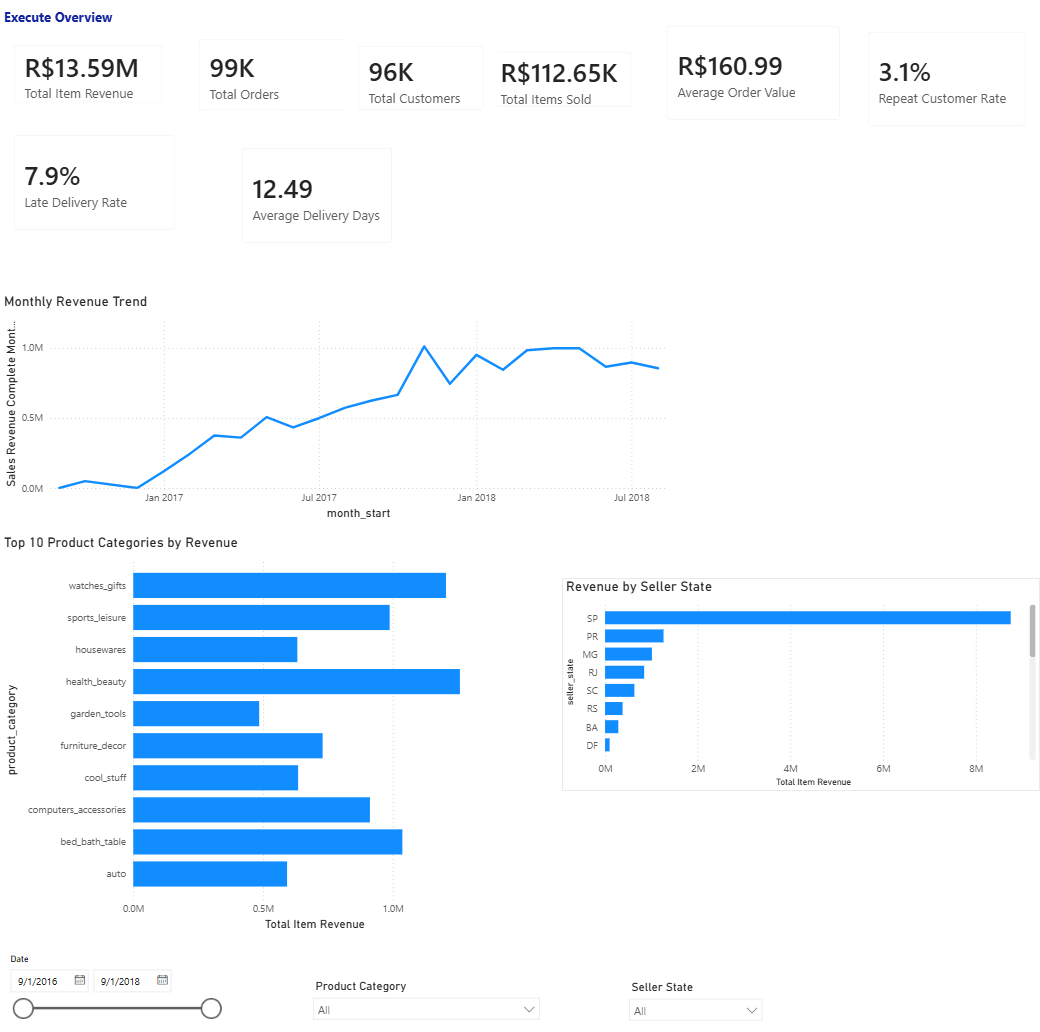

The dashboard page shown, as its layout file describes it:
{"tool":"powerbi","page":{"name":"Execute Overview","canvas":[1280,1280],"ordinal":0},"visuals":[{"type":"cardVisual","fields":{"Data":["mart_sales_performance.Total Item Revenue"]},"box":[0,44.3,217.8,105.8],"z":0},{"type":"cardVisual","fields":{"Data":["mart_sales_performance.Total Item Sold"]},"box":[586.3,53.1,208.5,102.3],"z":1000},{"type":"lineChart","title":"Monthly Revenue Trend","fields":{"Category":["mart_sales_performance.month_start.Variation.Date Hierarchy.Month"],"Y":["mart_sales_performance.Sales Revenue Complete Months"]},"box":[0,366.8,836.9,283.1],"z":2000},{"type":"clusteredBarChart","title":"Top 10 Product Categories by Revenue","fields":{"Category":["mart_sales_performance.product_category"],"Y":["mart_sales_performance.Total Item Revenue"]},"box":[0,663.4,630.2,492.3],"z":3000},{"type":"clusteredBarChart","title":"Revenue by Seller State","fields":{"Category":["mart_sales_performance.seller_state"],"Y":["mart_sales_performance.Total Item Revenue"]},"box":[691.7,717.5,588.3,262.2],"z":4000},{"type":"slicer","fields":{"Values":["DimDate.Date"]},"box":[0,1175.7,280.9,104.3],"z":5000},{"type":"slicer","fields":{"Values":["DimSellerState.Seller State"]},"box":[764.4,1207.7,183.7,69.9],"z":6000},{"type":"slicer","fields":{"Values":["DimProductCategory.Product Category"]},"box":[375.7,1206.5,298.7,73.5],"z":7000},{"type":"textbox","box":[0,10.7,165.9,34.4],"z":8000},{"type":"cardVisual","fields":{"Data":["mart_customer_behavior.Total Orders"]},"box":[227.6,36.7,218.1,122.1],"z":9000},{"type":"cardVisual","fields":{"Data":["mart_customer_behavior.Total Customers"]},"box":[423.1,45,189.6,113.8],"z":10000},{"type":"cardVisual","title":"Average Order Value","fields":{"Data":["mart_customer_behavior.Average Order Value"]},"box":[803.6,21.5,247.7,150.4],"z":11000},{"type":"cardVisual","fields":{"Data":["mart_customer_behavior.Repeat Customer Rate"]},"box":[1051.3,27.8,228.7,150.4],"z":12000},{"type":"cardVisual","fields":{"Data":["mart_customer_behavior.Average Delivery Days"]},"box":[280.6,171.1,219.1,151.4],"z":13000},{"type":"cardVisual","fields":{"Data":["mart_customer_behavior.Late Delivery Rate"]},"box":[0,155.1,232.6,151.4],"z":14000}]}

Visuals, with their boxes in screenshot pixels (x1, y1, x2, y2), scaled from the page's 1280x1280 canvas onto the 1040x1032 screenshot:
cardVisual - mart_sales_performance.Total Item Revenue: bbox=[0, 36, 177, 121]
cardVisual - mart_sales_performance.Total Item Sold: bbox=[476, 43, 646, 125]
"Monthly Revenue Trend" lineChart: bbox=[0, 296, 680, 524]
"Top 10 Product Categories by Revenue" clusteredBarChart: bbox=[0, 535, 512, 932]
"Revenue by Seller State" clusteredBarChart: bbox=[562, 578, 1039, 790]
slicer - DimDate.Date: bbox=[0, 948, 228, 1031]
slicer - DimSellerState.Seller State: bbox=[621, 974, 770, 1030]
slicer - DimProductCategory.Product Category: bbox=[305, 973, 548, 1031]
textbox: bbox=[0, 9, 135, 36]
cardVisual - mart_customer_behavior.Total Orders: bbox=[185, 30, 362, 128]
cardVisual - mart_customer_behavior.Total Customers: bbox=[344, 36, 498, 128]
"Average Order Value" cardVisual: bbox=[653, 17, 854, 139]
cardVisual - mart_customer_behavior.Repeat Customer Rate: bbox=[854, 22, 1039, 144]
cardVisual - mart_customer_behavior.Average Delivery Days: bbox=[228, 138, 406, 260]
cardVisual - mart_customer_behavior.Late Delivery Rate: bbox=[0, 125, 189, 247]
